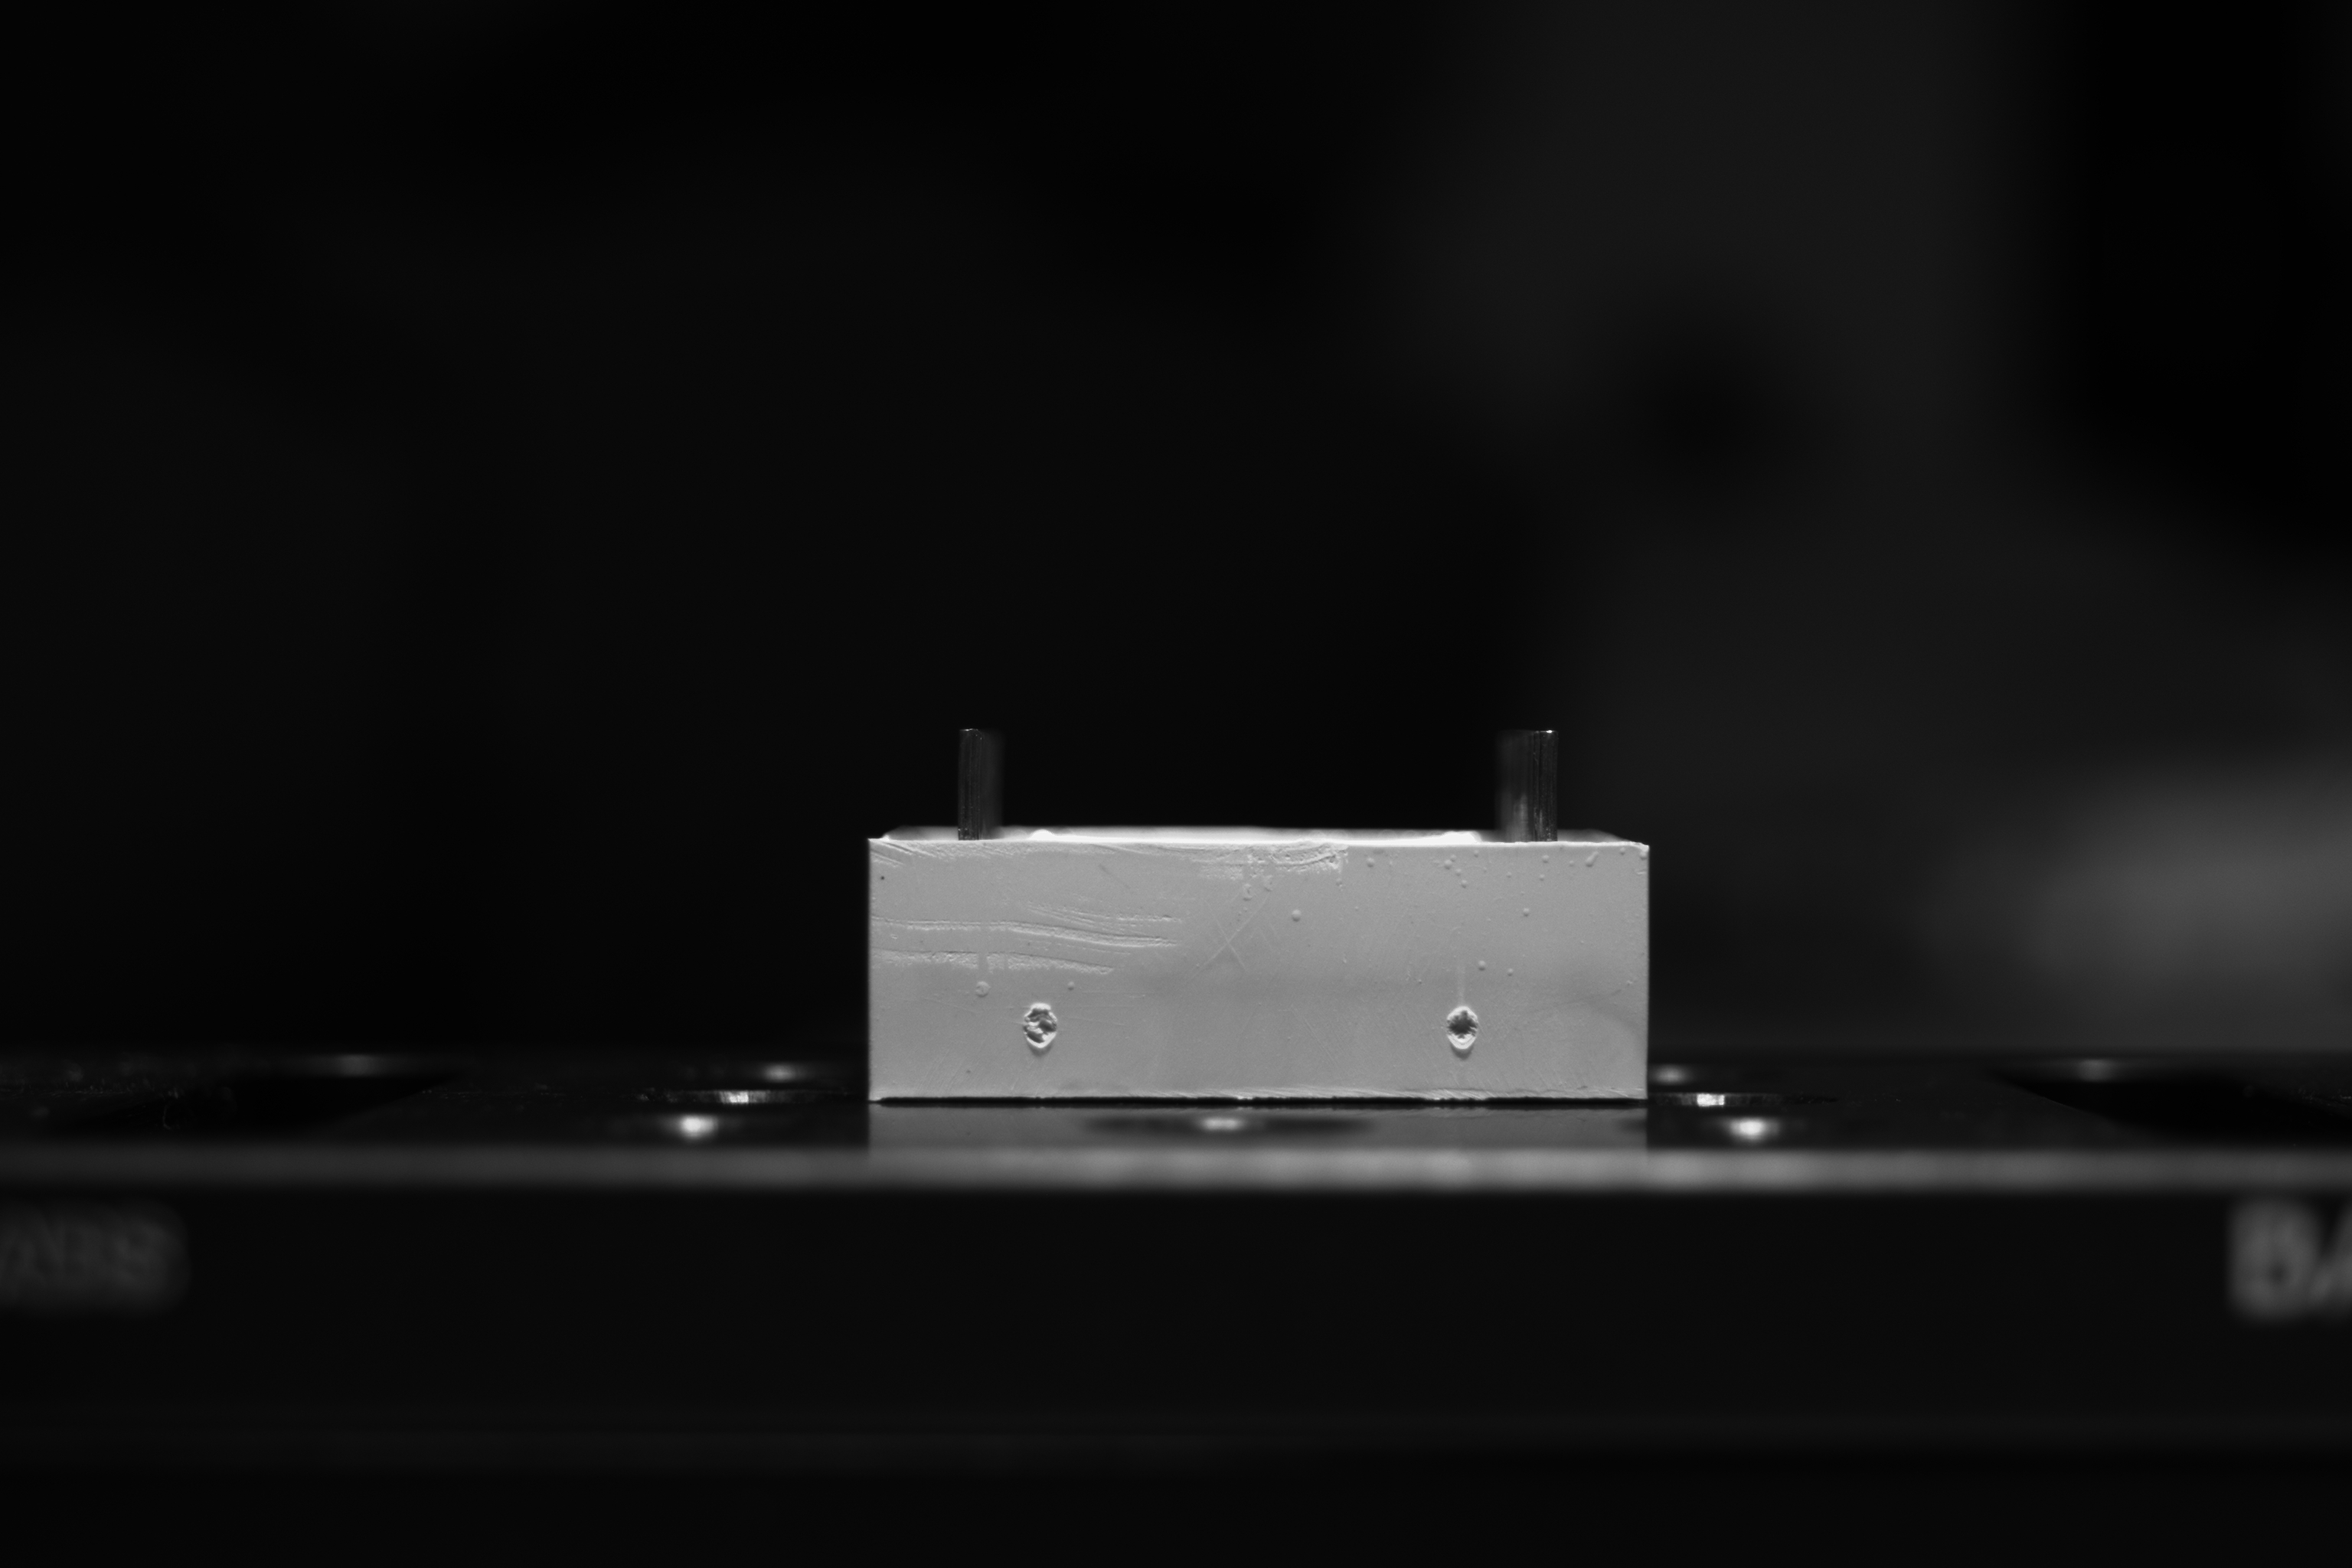glue: (1431, 847, 1489, 891), (1237, 873, 1277, 905), (1617, 845, 1648, 866), (1536, 850, 1550, 882), (1584, 849, 1601, 871), (1360, 852, 1379, 871), (1286, 906, 1305, 924), (1517, 905, 1536, 919), (1501, 964, 1517, 980), (1475, 955, 1489, 973), (1064, 978, 1078, 994), (1332, 875, 1346, 889), (1501, 870, 1517, 880), (1564, 857, 1575, 870)
injection_hole: (1017, 997, 1062, 1055), (1445, 1003, 1482, 1059)
